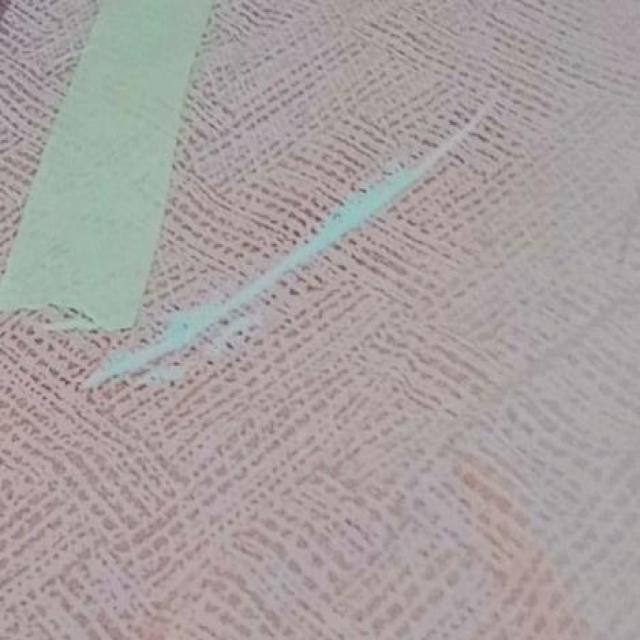selvet: (267, 113, 490, 265), (75, 270, 288, 381)
